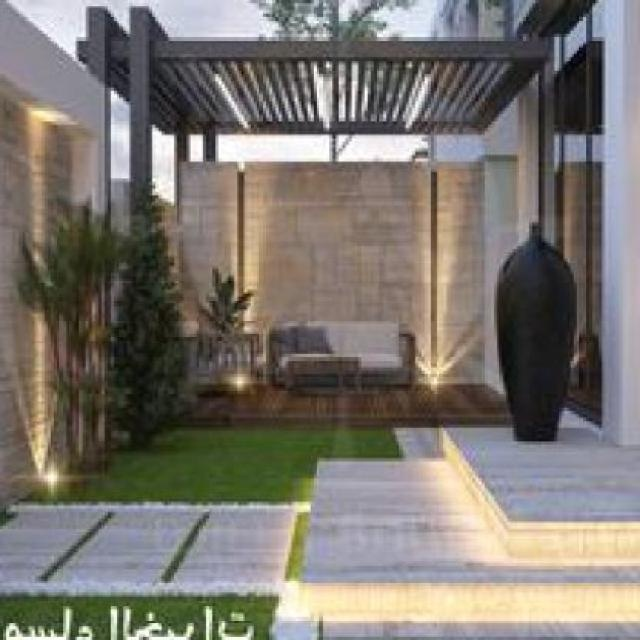stair: (263, 416, 625, 632)
